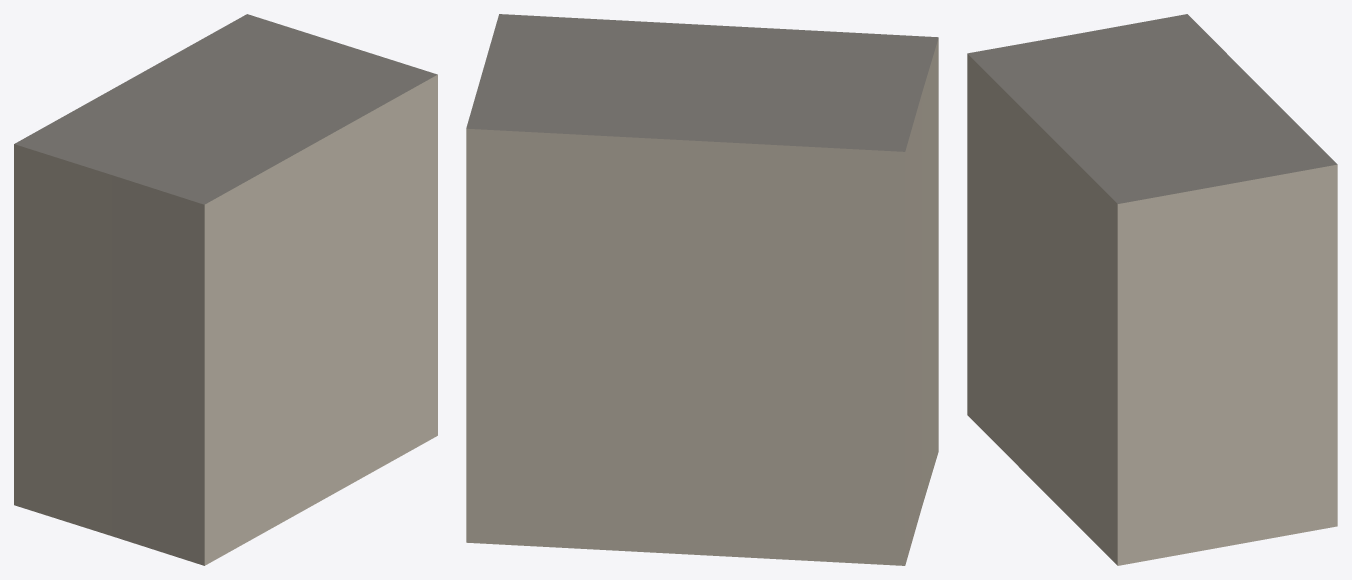
3 views of the same model, side by side, from view 1: azimuth 30°, elevation 25°; view 2: azimuth 150°, elevation 25°; view 3: azimuth 270°, elevation 25° (orthographic). The views are drawn at different scales.
Visible parts, largest first — view 1: HP-w1435294161; view 2: HP-w1435294161; view 3: HP-w1435294161.
Boxes of the visible parts, x1,y1,x2,y2 form: HP-w1435294161: (14,14,437,565); HP-w1435294161: (466,14,938,565); HP-w1435294161: (967,14,1337,565).
Bounding box in the file's own units: 20.29 × 18 × 16.7.
